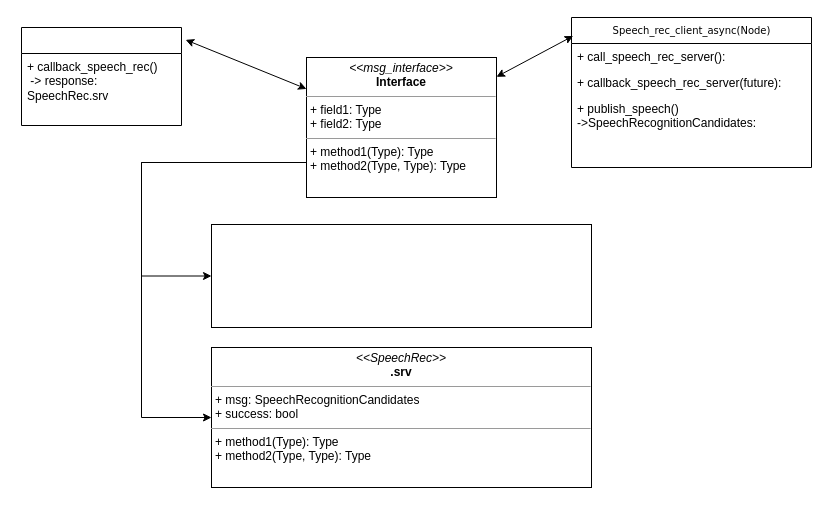
The diagram is 829 pixels wide and 505 high, and some of its shapes have lost their labels. The box of each missing label's shape, as (x1, y1, x2, y2) in pixels:
<<SpeechRecognitionCandidates>> .msg + transcript: string + confidence: float32: (210, 224, 592, 328)
Speech_rec_service_server(Node): (20, 26, 182, 126)
